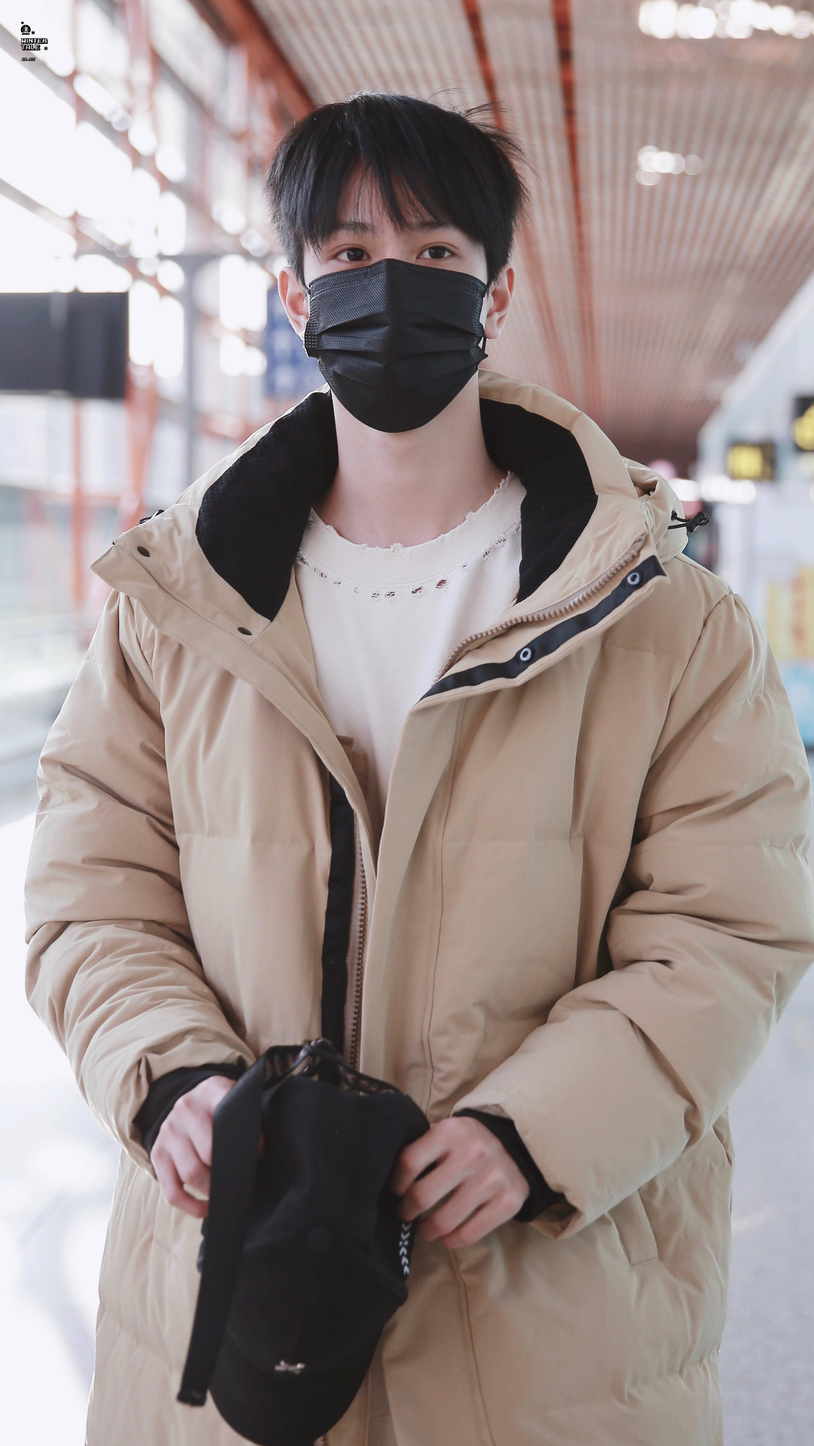OK: (299, 196, 486, 435)
